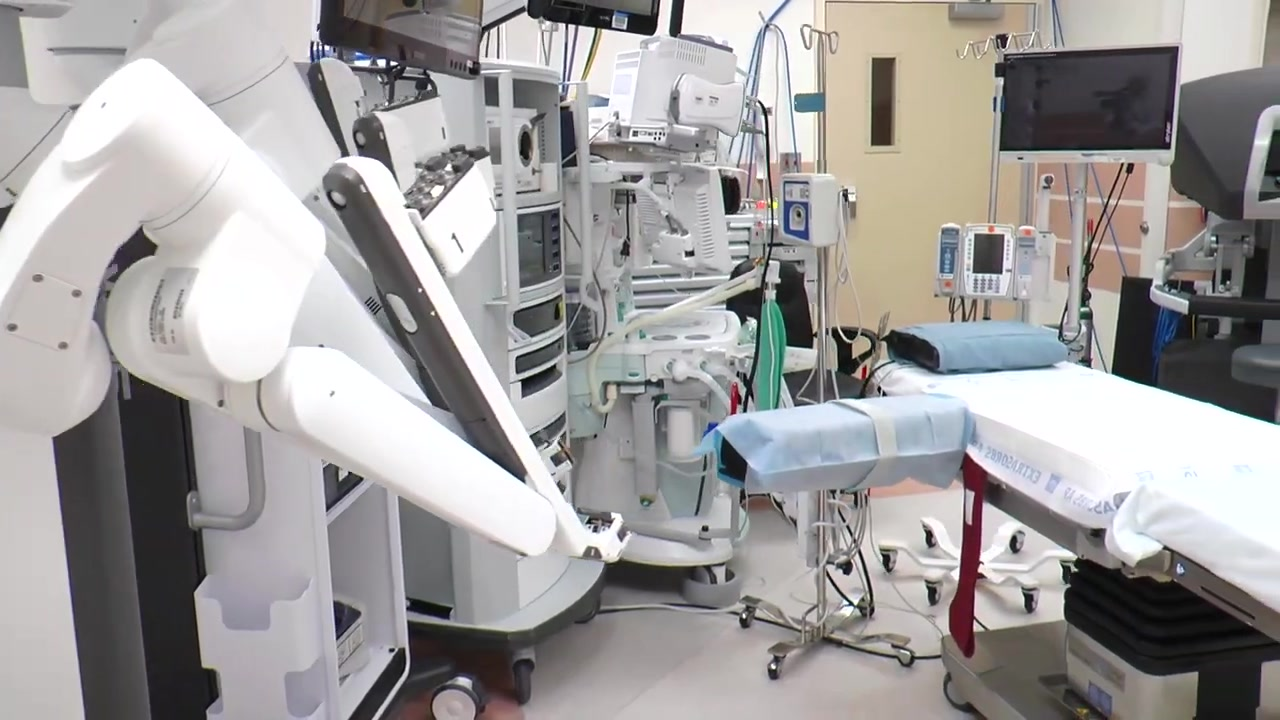bedside_monitor: (992, 38, 1187, 166)
breathing_tube: (665, 341, 802, 421)
chair: (721, 257, 882, 511), (1230, 342, 1280, 412)
handle: (188, 428, 266, 531)
hospital_bed: (872, 315, 1280, 642)
infusion_pump: (937, 220, 1013, 298), (778, 180, 838, 252)
iv_pole: (797, 25, 840, 632), (956, 34, 1002, 327), (1011, 30, 1051, 318)
ventilator: (563, 151, 755, 593)
